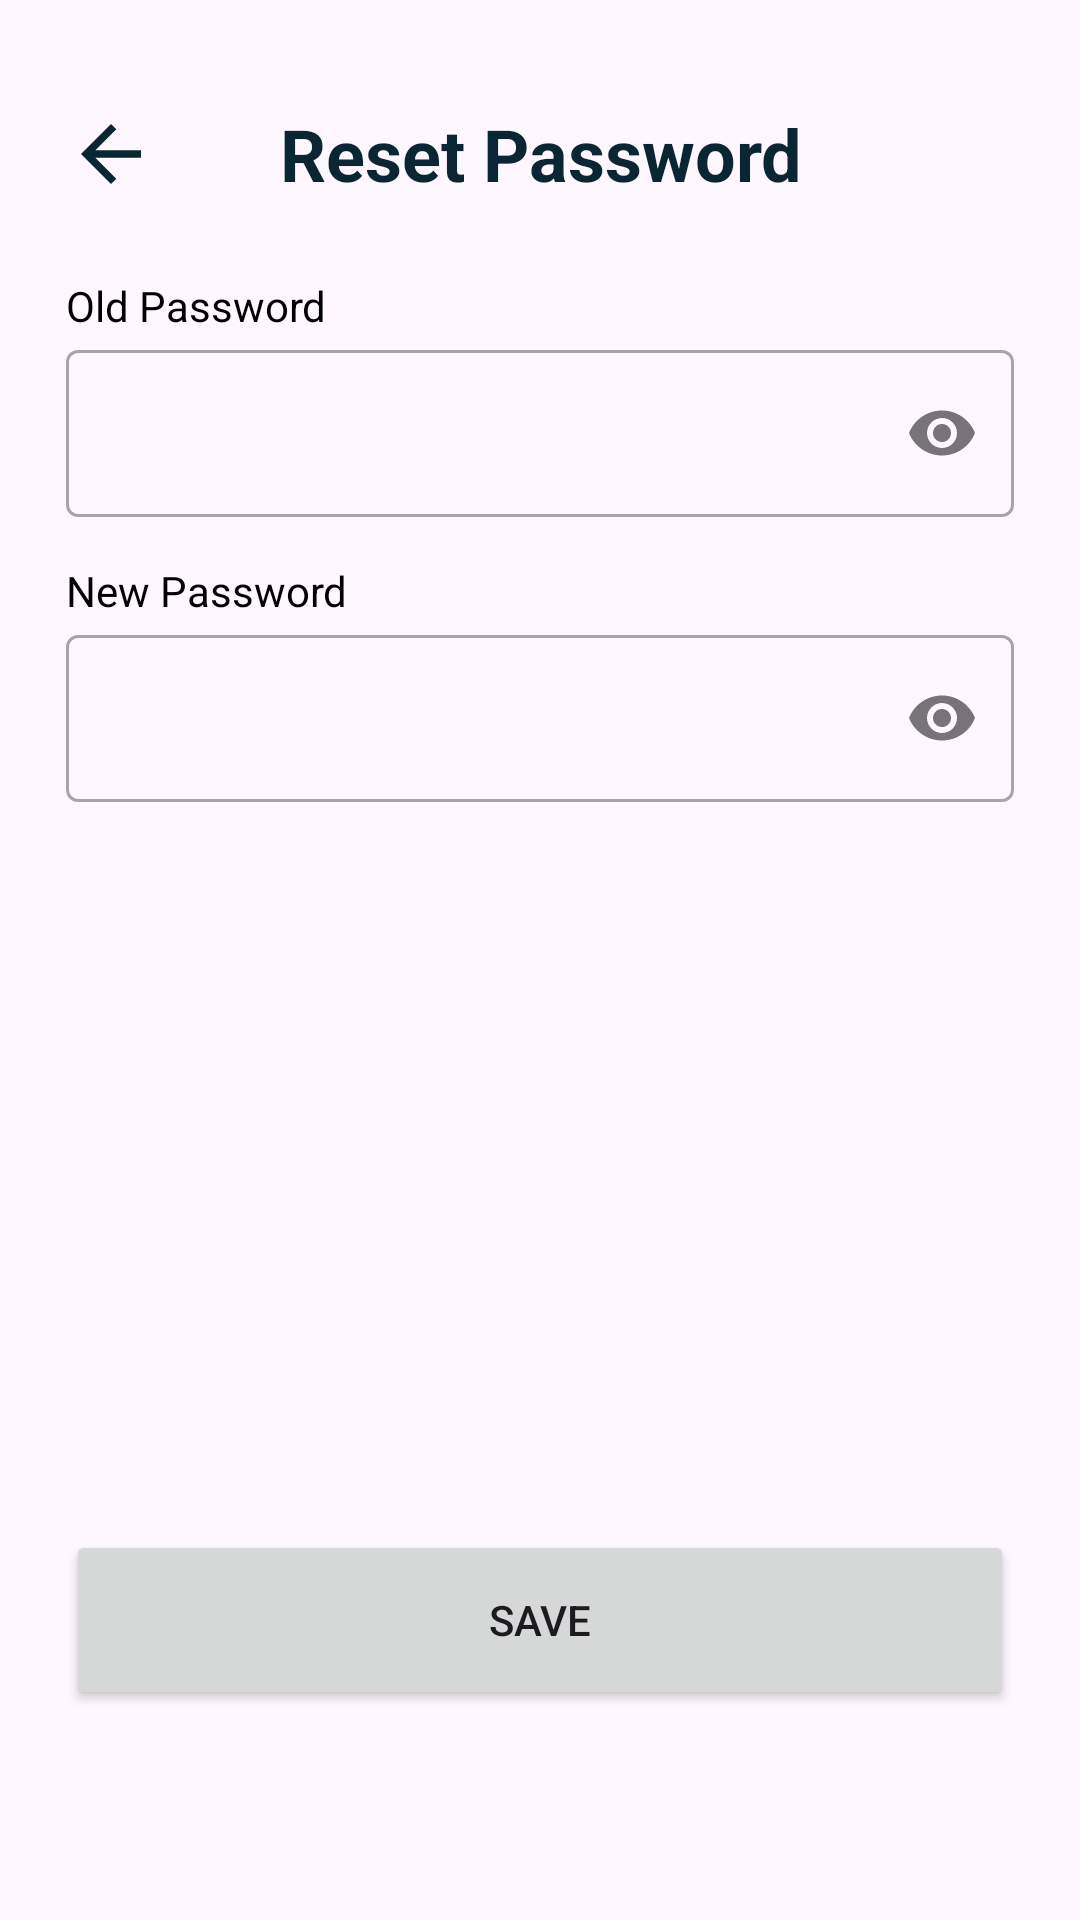

Where icons sit on this 1080*1920 app screen, as (x1, y1, x2, y2):
arrow back: (81, 124, 141, 184)
